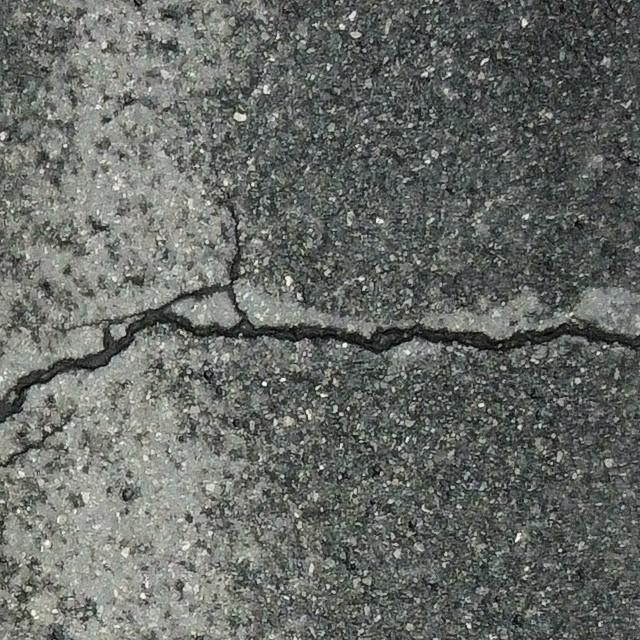TransverseCrack: (1, 262, 640, 424)
